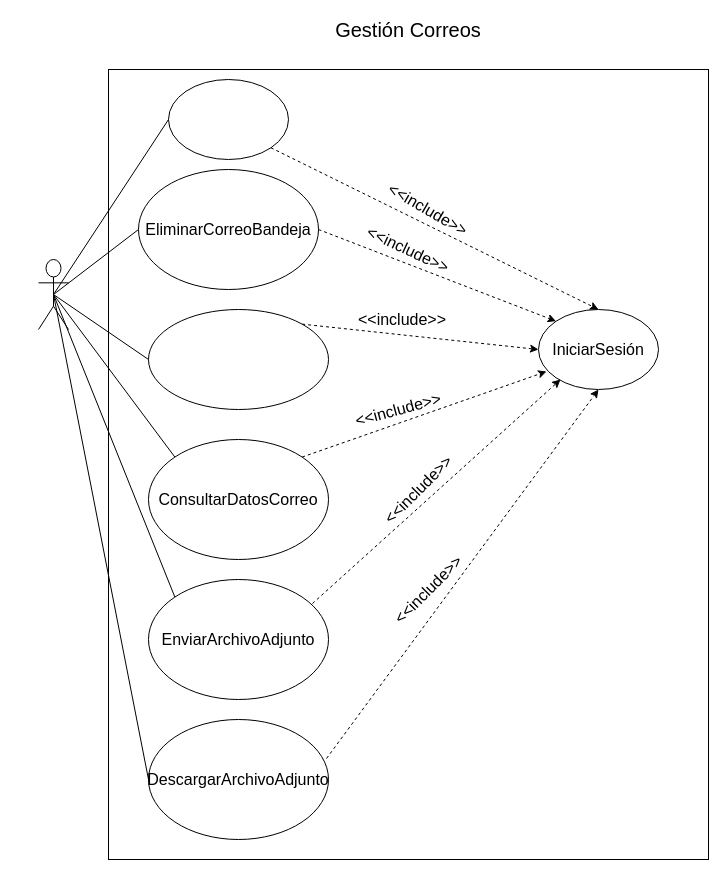
Image size: 726x877. Some labels were removed from this diagram. The shapes that lost their labels are listed below. From the top down, each one's centre as x and y in pixels, then its label:
At point 228,119: "EnviarCorreo".
At point 53,294: "USUARIO".
At point 238,359: "EliminarCorreoPapelera".
